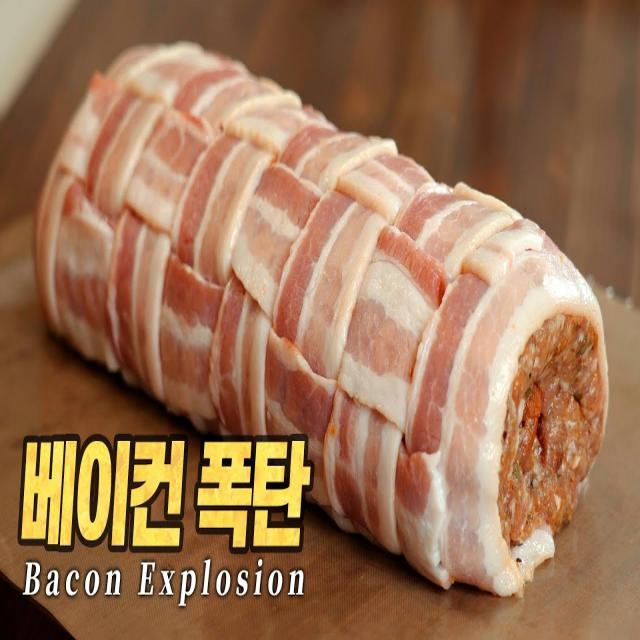Bacon Slice: (48, 33, 496, 472)
